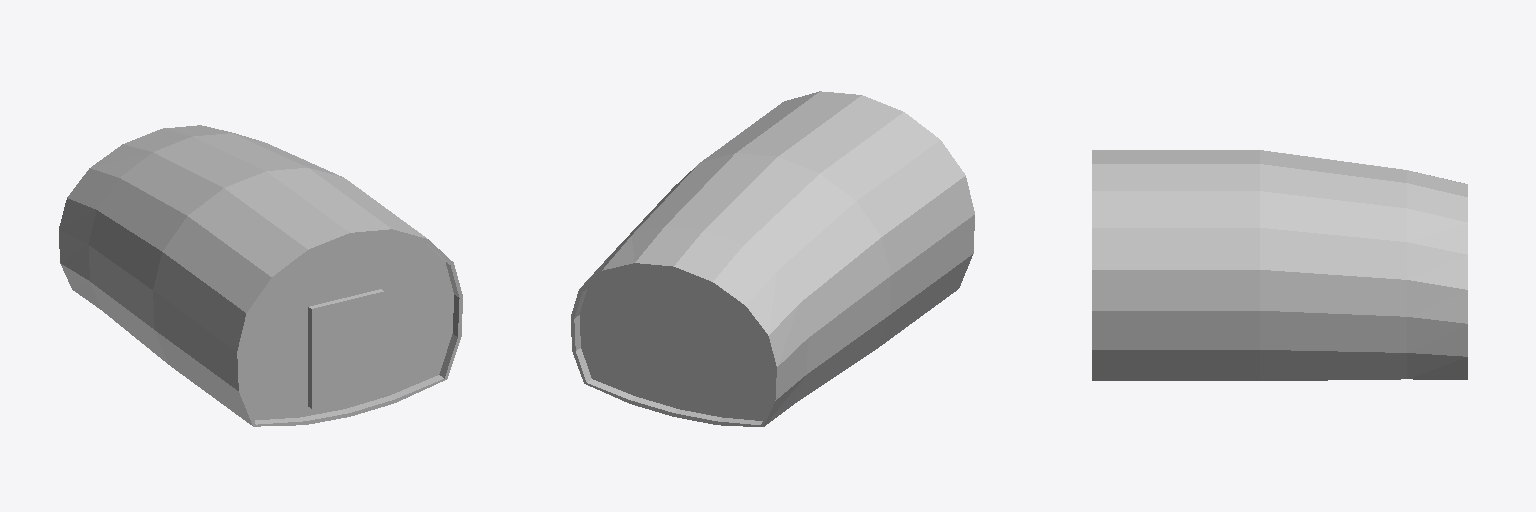
The model's file is t2container.obj.
3 views of the same model, side by side, from view 1: azimuth 30°, elevation 25°; view 2: azimuth 150°, elevation 25°; view 3: azimuth 270°, elevation 25° (orthographic).
Parts seen in each view (by area): view 1: Body, Door; view 2: Body; view 3: Body.
Boxes of the visible parts, box(x1,y1,x2,y2) form: Body: box(59, 125, 462, 426); Door: box(308, 289, 384, 408); Body: box(571, 91, 974, 426); Body: box(1092, 150, 1467, 380).
Size of the model in its own units: 5.95 by 4.63 by 8.6.